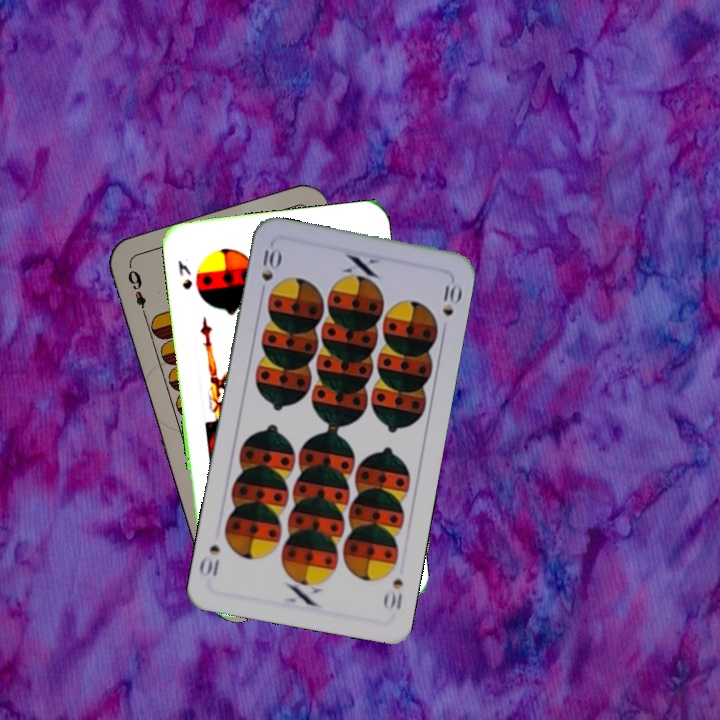E9: (123, 265, 150, 321)
S10: (380, 574, 406, 616), (257, 245, 283, 284)
SK: (174, 256, 195, 292)
